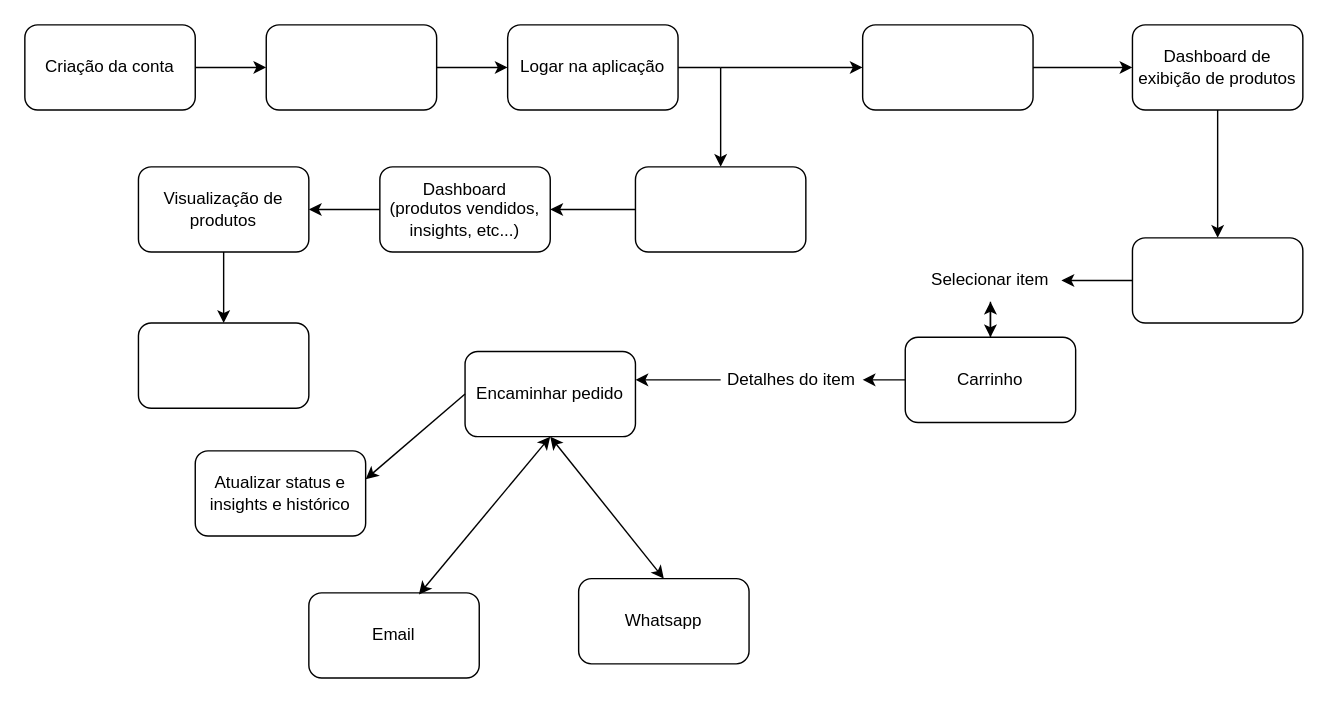
Image size: 1328x703. Some labels were removed from this diagram. Each missing label, with the centre of its shape:
Cadastrar, editar e deletar produto: (223,365)
Comprador: (947,66)
Confirmar email: (351,66)
Pesquisar produto: (1217,279)
Vendedor: (720,208)
